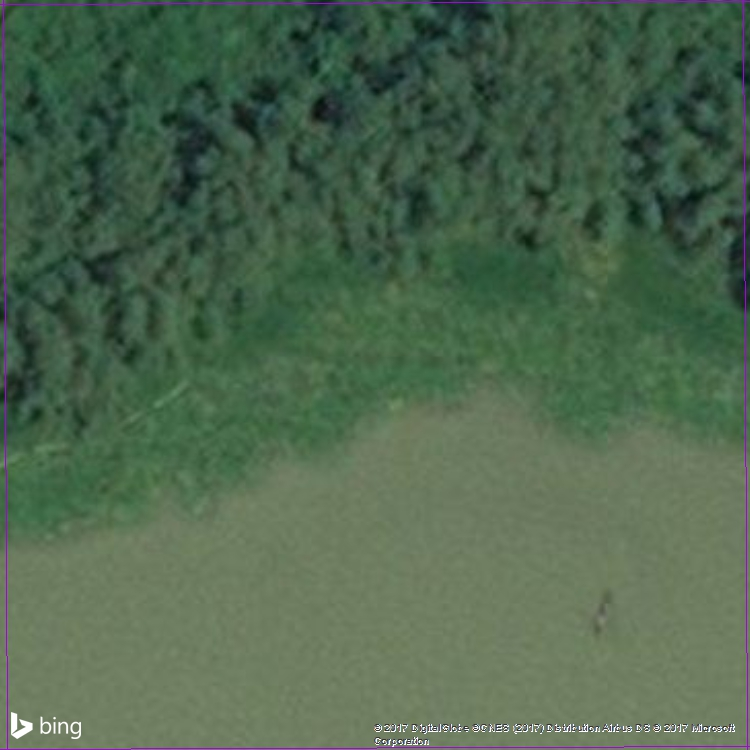boat: (582, 579, 628, 649)
